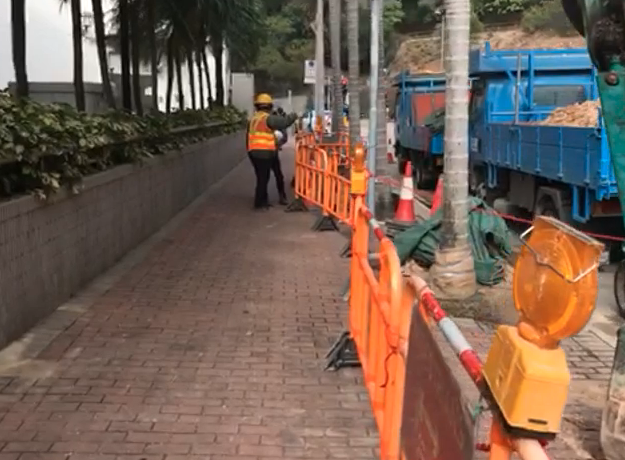Hard Hat: (252, 94, 275, 114)
Person: (247, 95, 276, 212)
Vest: (246, 104, 279, 153)
